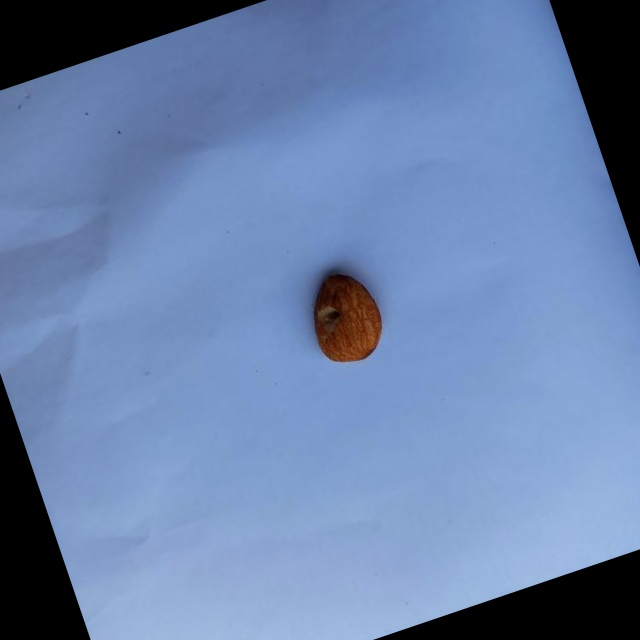grade3: (293, 259, 396, 377)
